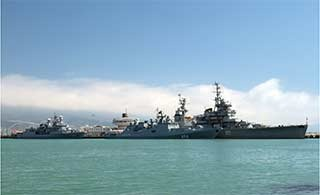warship: (98, 81, 309, 141), (4, 110, 86, 142)
